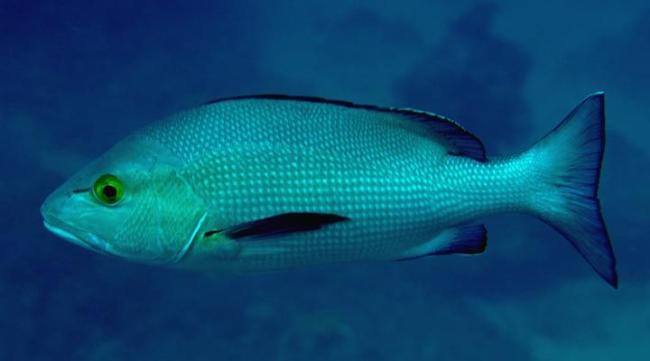fish: (38, 90, 620, 290)
